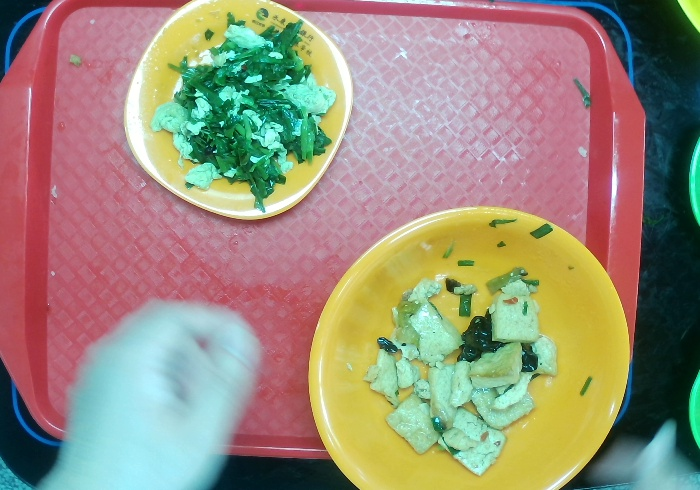YKMZ-Ju_Se_Fang_Die: (118, 1, 359, 225)
YKMZ-Ju_Se_Tang_Wan: (295, 201, 641, 490)
